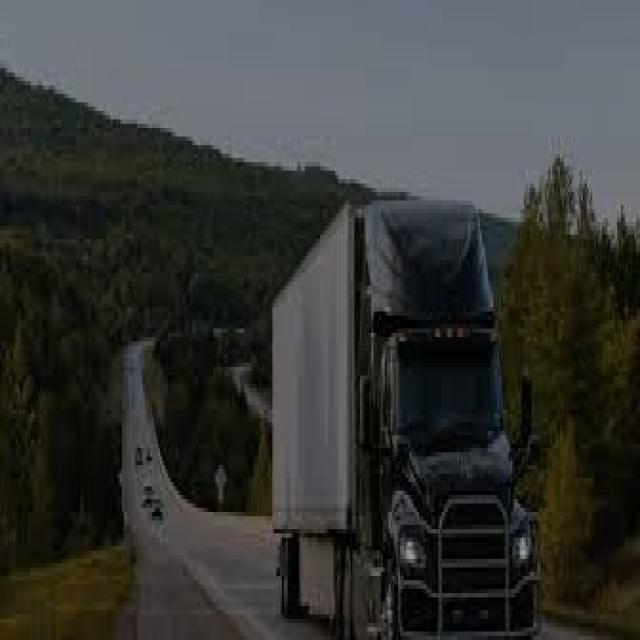covered: (268, 188, 542, 636)
